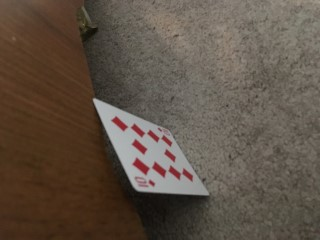TenOfDiamonds: (92, 97, 209, 196)
